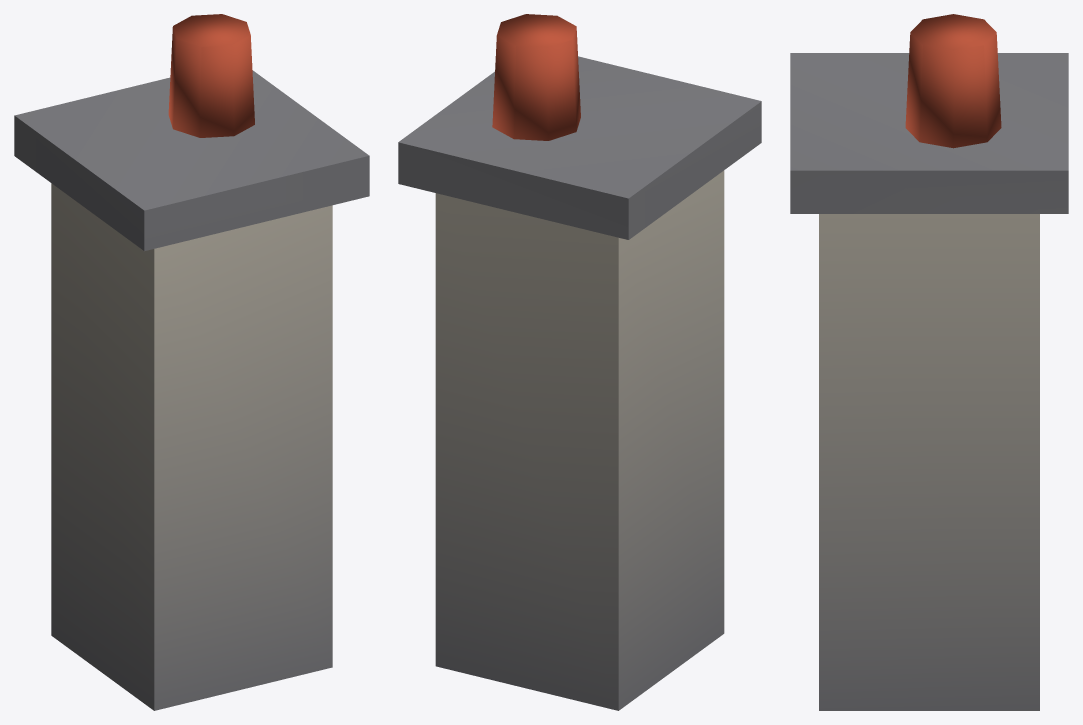
The model's file is chimney.glb.
3 views of the same model, side by side, from view 1: azimuth 30°, elevation 25°; view 2: azimuth 150°, elevation 25°; view 3: azimuth 270°, elevation 25° (orthographic). The views are drawn at different scales.
Visible parts, largest first — view 1: Chimney; view 2: Chimney; view 3: Chimney.
Boxes of the visible parts, bbox=[...] form: Chimney: bbox=[14, 14, 369, 710]; Chimney: bbox=[398, 14, 761, 710]; Chimney: bbox=[790, 14, 1068, 710].
Bounding box in the file's own units: 0.58 × 1.49 × 0.58.
